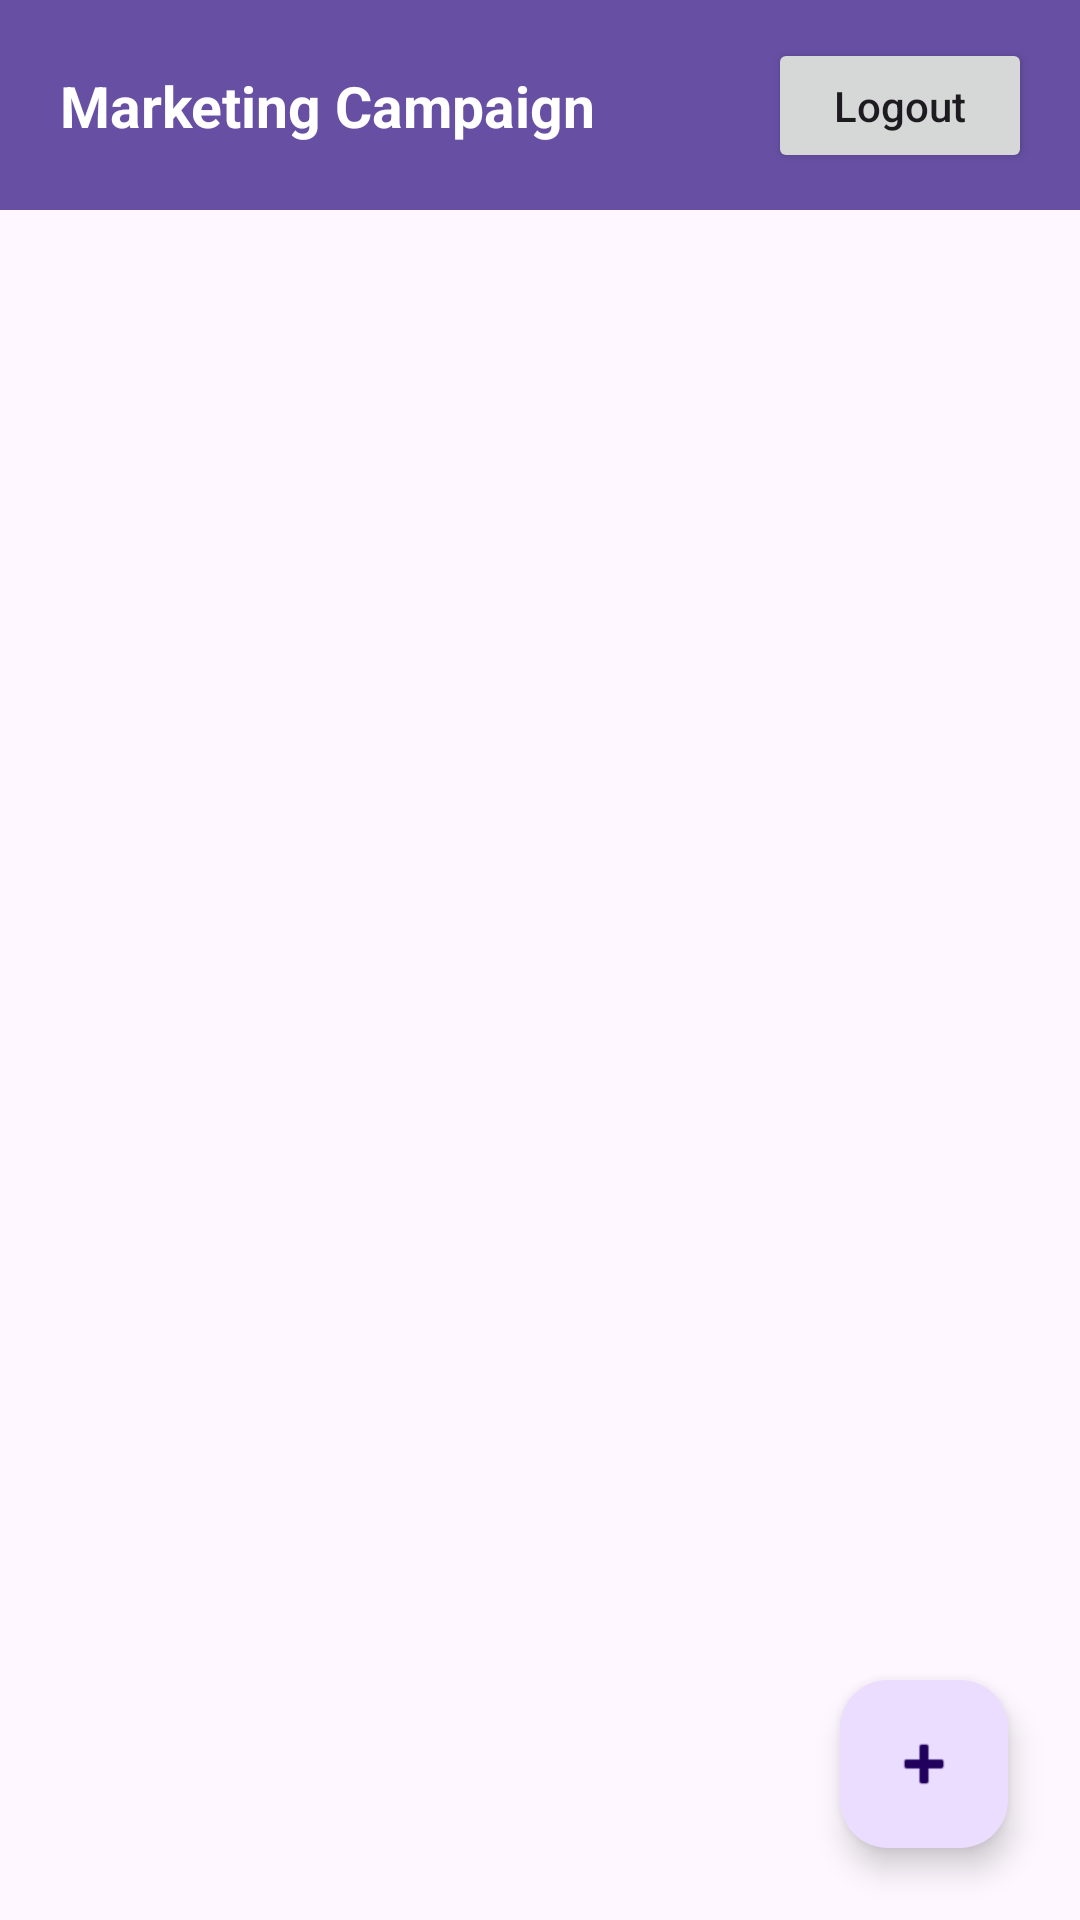

Where to tap for icons on this 1080px×1920px app screen, as [x,y]:
Tambah Kampanye: [924,1764]
